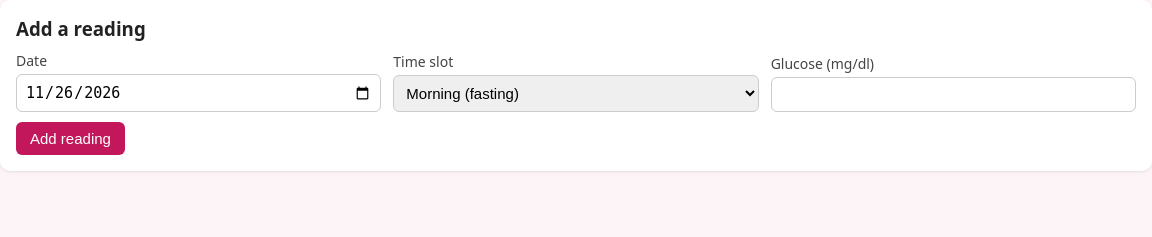
Scenario: shows the server message, such as a duplicate slot
Type "120" into the field labelled "Glucose (mg/dl)". click: (953, 94)
box: [771,77,1136,112]
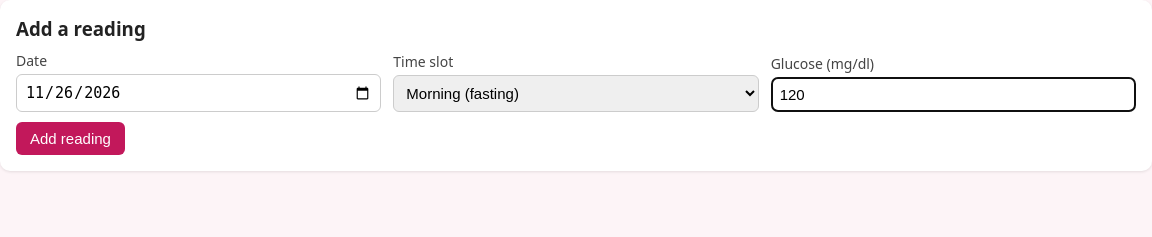
Click the button "Add reading". click: (70, 138)
box: [16,122,125,155]
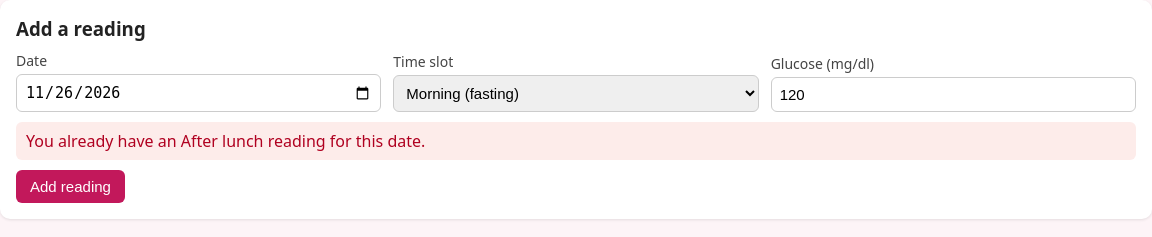
Result: the message reads "You already have an After lunch reading for this date." at [26,130,425,152]
